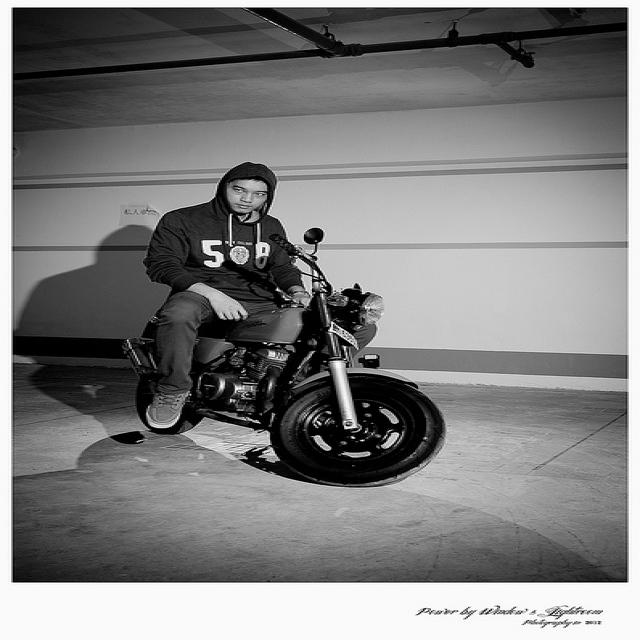motor: (124, 228, 445, 485)
